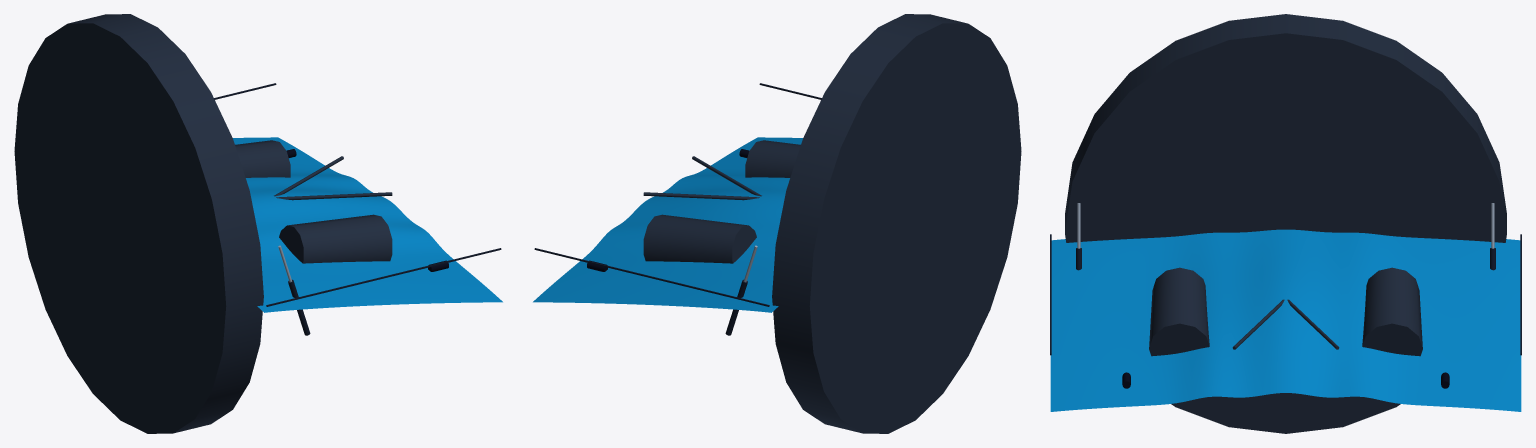
File: hood.glb
3 renders of one model, left to right at view 1: azimuth 30°, elevation 25°; view 2: azimuth 150°, elevation 25°; view 3: azimuth 270°, elevation 25°, orthographic. The views are drawn at different scales.
Parts seen in each view (by area): view 1: Block04_ProductionSculptedHood; view 2: Block04_ProductionSculptedHood; view 3: Block04_ProductionSculptedHood.
Part boxes in pixels (box(x1,y1,x2,y2)): Block04_ProductionSculptedHood: box(14, 14, 502, 433); Block04_ProductionSculptedHood: box(533, 14, 1021, 433); Block04_ProductionSculptedHood: box(1050, 14, 1521, 433).
Size of the model in its own units: 0.86 by 1.17 by 1.24.
